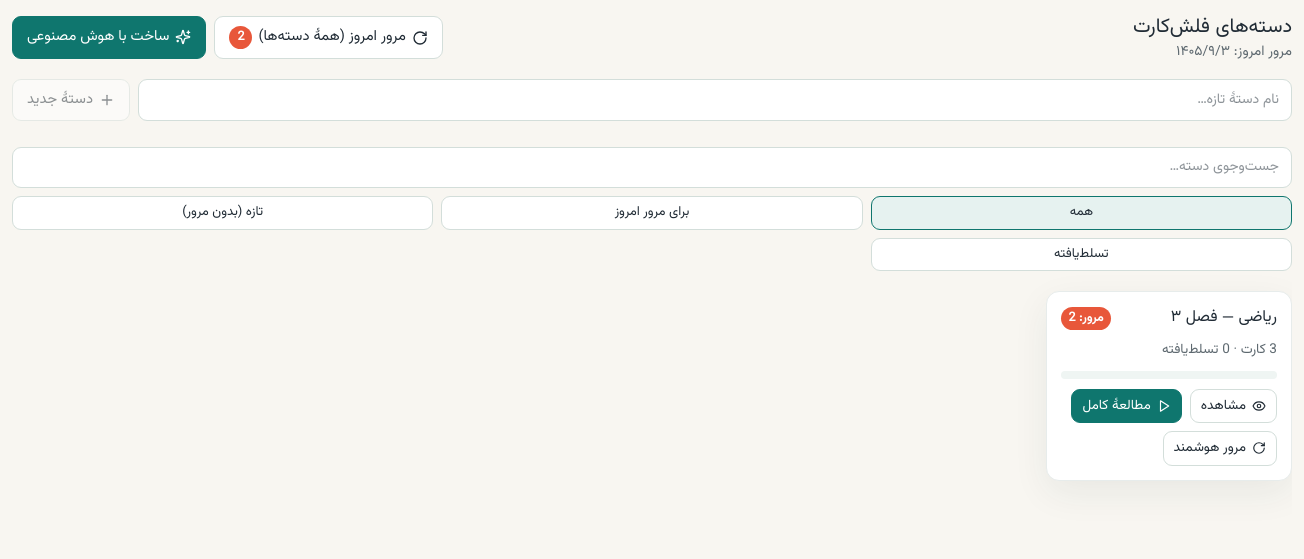
FlashcardsWorkspace › shows the Persian error when a session request fails
Step 1. Click the button "مرور هوشمند" → [1220, 448], box [1162, 431, 1277, 466]
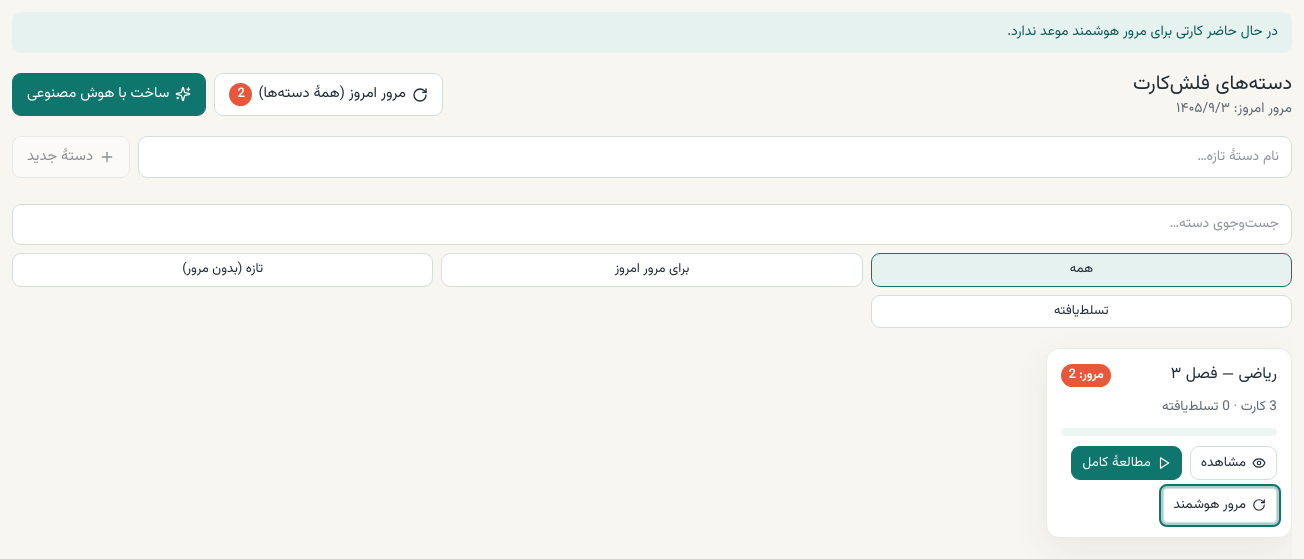
Expected: the text "در حال حاضر کارتی برای مرور هوشمند موعد ندارد." is shown, [12, 12, 1292, 53]
